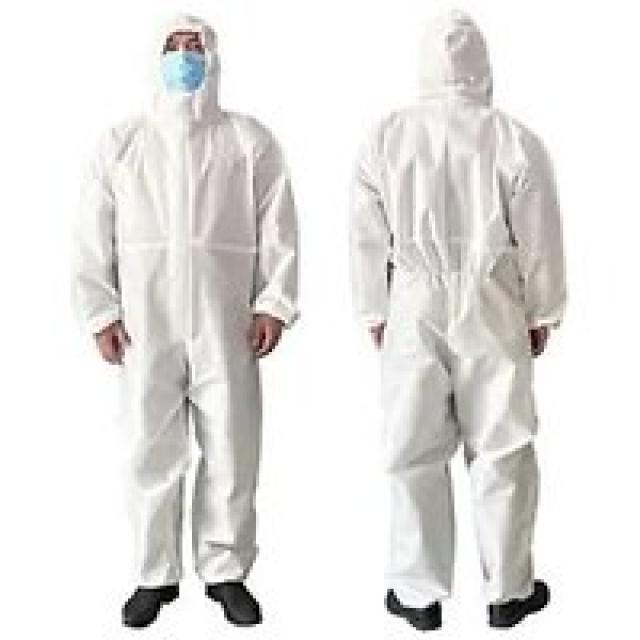Coverall: (54, 3, 304, 640), (339, 13, 589, 640)
Mask: (154, 42, 211, 86)
